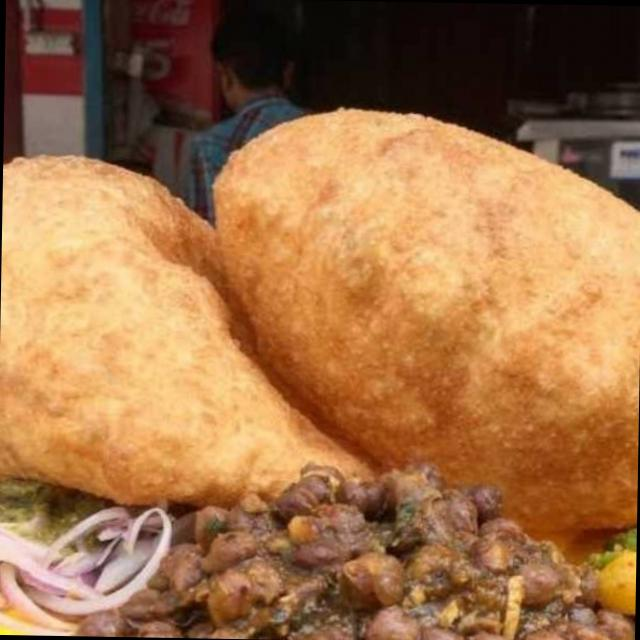Bhatura: (0, 99, 640, 502)
Chole: (148, 471, 597, 640)
